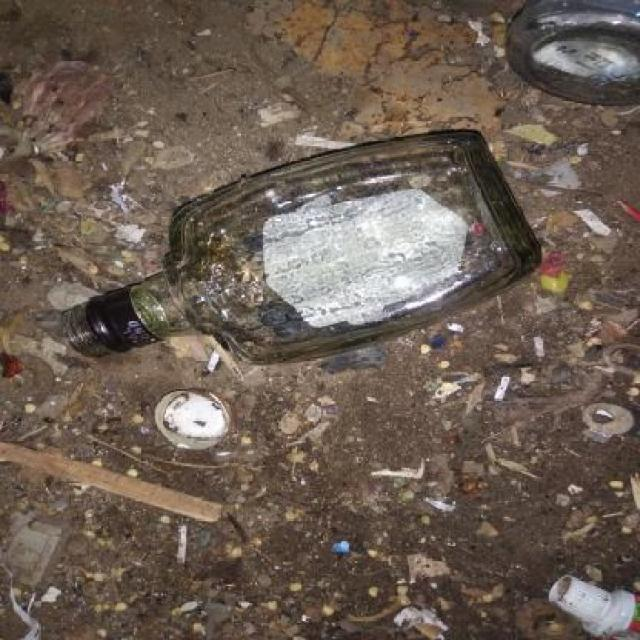garbage: (28, 158, 547, 447), (141, 376, 316, 497), (500, 6, 640, 134), (471, 546, 640, 640)
